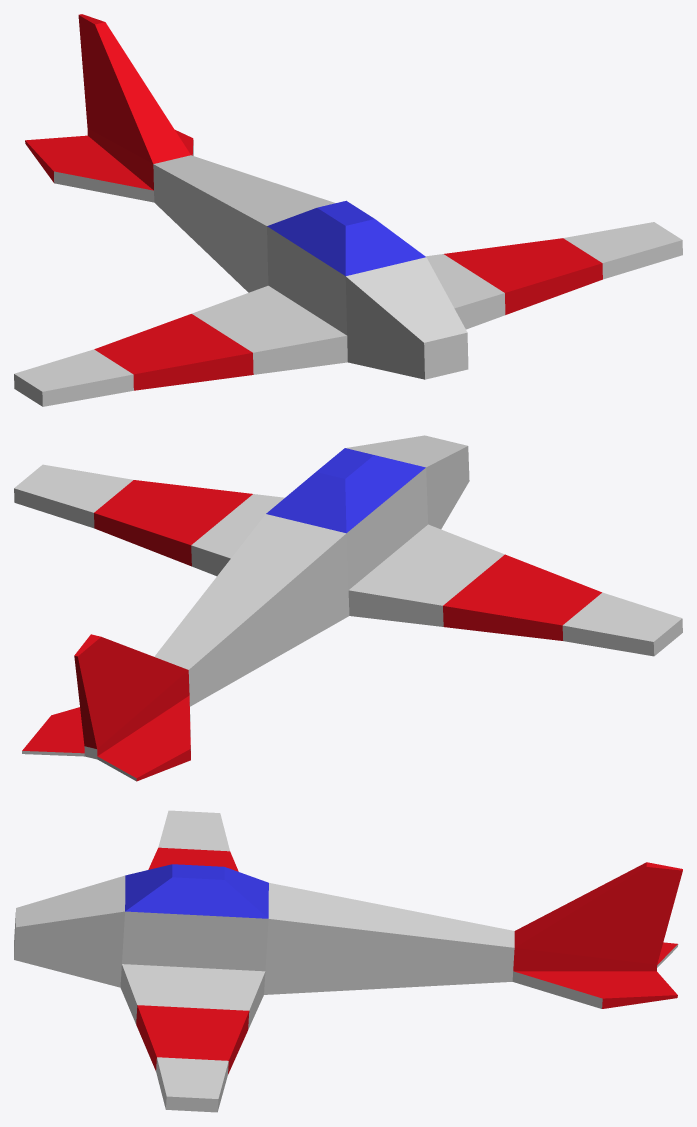
3 views of the same model, one above another, from view 1: azimuth 30°, elevation 25°; view 2: azimuth 150°, elevation 25°; view 3: azimuth 270°, elevation 25° (orthographic). The views are drawn at different scales.
Visible parts, largest first — view 1: Plane.003; view 2: Plane.003; view 3: Plane.003.
Part boxes in pixels (bbox=[...]): Plane.003: bbox=[14, 14, 682, 406]; Plane.003: bbox=[14, 435, 682, 781]; Plane.003: bbox=[14, 810, 682, 1112].
Size of the model in its own units: 0.5742 by 0.108 by 0.5736.
